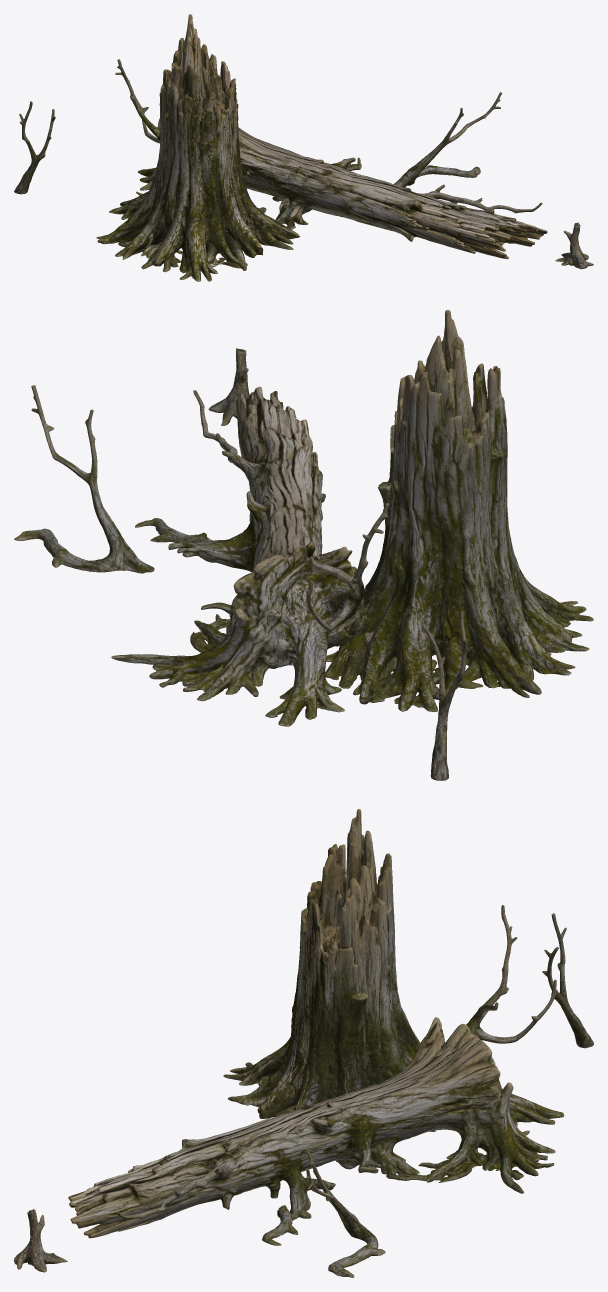
Rendered from tree_remnant.glb.
The picture shows the model from 3 angles, top to bottom: view 1: azimuth 30°, elevation 25°; view 2: azimuth 150°, elevation 25°; view 3: azimuth 270°, elevation 25°; orthographic projection. The views are drawn at different scales.
Parts seen in each view (by area): view 1: tree_remnant; view 2: tree_remnant; view 3: tree_remnant.
Boxes of the visible parts, x1,y1,x2,y2 form: tree_remnant: (14,14,593,281); tree_remnant: (14,310,593,780); tree_remnant: (14,809,593,1277).
Bounding box in the file's own units: 189 × 104 × 190.
1 material, 1 textured.
